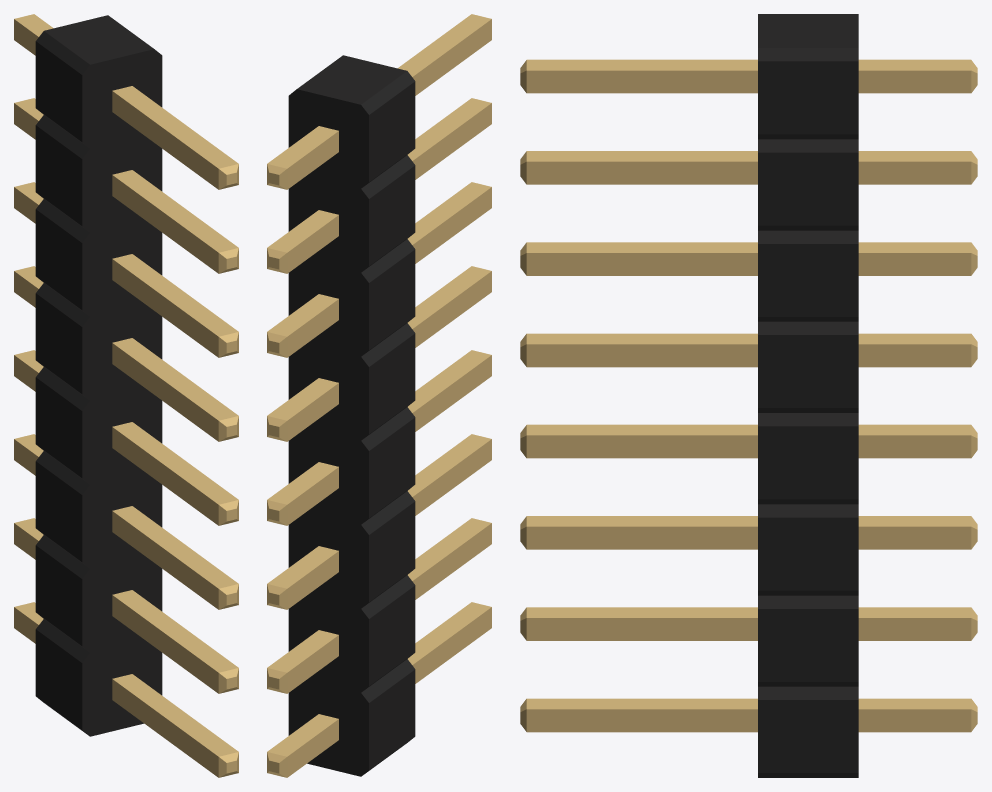
File: PinHeader_1x08_P2.54mm_Vertical.obj
3 views of the same model, side by side, from view 1: azimuth 30°, elevation 25°; view 2: azimuth 150°, elevation 25°; view 3: azimuth 270°, elevation 25° (orthographic). The views are drawn at different scales.
Visible parts, largest first — view 1: obj2, obj1; view 2: obj2, obj1; view 3: obj1, obj2.
Part boxes in pixels (x1,y1,x2,y2): obj2: (35, 15, 162, 736); obj1: (14, 14, 238, 777); obj2: (288, 55, 415, 776); obj1: (267, 14, 491, 777); obj1: (520, 59, 977, 732); obj2: (758, 14, 858, 777).
Size of the model in its own units: 2.54 by 20.32 by 11.54.
